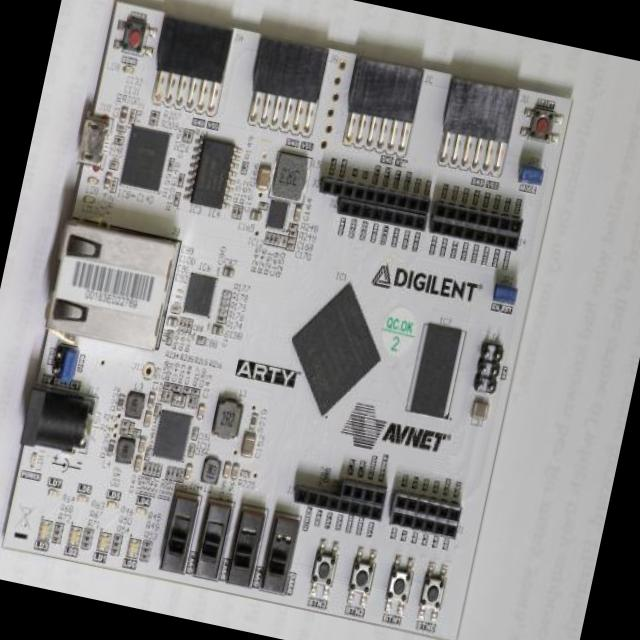IC: (274, 273, 394, 427), (406, 322, 466, 419), (182, 132, 244, 212), (119, 124, 172, 192), (150, 408, 193, 462), (180, 270, 218, 318), (265, 198, 289, 232)
LED: (36, 519, 52, 541), (66, 524, 82, 546), (96, 530, 111, 553), (126, 538, 140, 558), (28, 451, 38, 468), (135, 506, 147, 516), (82, 194, 94, 204), (122, 64, 134, 74), (76, 494, 88, 503), (106, 500, 118, 509), (86, 176, 98, 184), (48, 489, 58, 496)
capacitor: (253, 164, 272, 193), (469, 398, 490, 421), (240, 432, 256, 458), (228, 461, 240, 482), (132, 453, 144, 473), (195, 401, 206, 422), (118, 105, 130, 124), (220, 266, 236, 279), (137, 434, 147, 454), (146, 391, 156, 410), (183, 462, 193, 481), (102, 171, 112, 189), (142, 410, 152, 428), (292, 204, 302, 222), (222, 461, 232, 479), (210, 324, 224, 336), (248, 210, 262, 222), (256, 200, 268, 212), (166, 316, 178, 328), (152, 402, 160, 417), (187, 442, 195, 457), (178, 393, 186, 408), (143, 446, 151, 460), (190, 426, 198, 440), (170, 392, 178, 406), (196, 334, 207, 344), (285, 234, 296, 244), (170, 304, 180, 314), (160, 388, 167, 402), (115, 123, 126, 131), (108, 161, 119, 169), (128, 420, 134, 434), (178, 468, 184, 482), (192, 394, 198, 408), (132, 428, 140, 437), (116, 130, 124, 138), (286, 242, 294, 250), (130, 192, 136, 200), (111, 156, 118, 162), (192, 332, 196, 340), (206, 322, 210, 330), (216, 266, 220, 273), (175, 294, 180, 299), (176, 288, 182, 292), (174, 302, 178, 305)
connector: (41, 216, 181, 352), (240, 30, 330, 138), (144, 12, 234, 118), (338, 52, 426, 159), (432, 73, 520, 179), (313, 176, 431, 232), (18, 382, 98, 457), (428, 199, 523, 251), (292, 471, 388, 522), (386, 488, 463, 539), (317, 55, 348, 153), (74, 110, 114, 171), (469, 340, 505, 396), (59, 342, 79, 382), (518, 162, 544, 190), (50, 341, 67, 377), (492, 286, 517, 306)
resistor: (247, 411, 259, 431), (106, 438, 116, 456), (116, 394, 126, 412), (322, 467, 331, 482), (108, 546, 120, 556), (154, 463, 162, 478), (238, 468, 250, 478), (186, 129, 194, 144), (150, 462, 158, 476), (146, 462, 154, 476), (142, 460, 150, 474), (187, 394, 195, 408), (176, 173, 184, 187), (172, 192, 180, 206), (240, 160, 248, 174), (230, 204, 238, 218), (264, 230, 272, 244), (268, 232, 276, 246), (272, 232, 280, 246), (280, 234, 288, 248), (139, 552, 150, 562), (112, 533, 123, 543), (80, 540, 91, 550), (118, 425, 129, 435), (215, 314, 226, 324), (113, 134, 124, 144), (177, 316, 184, 331), (169, 467, 177, 480), (182, 128, 190, 141), (142, 540, 152, 550), (288, 222, 298, 232), (165, 466, 172, 480), (186, 318, 193, 332), (181, 317, 188, 331), (167, 157, 174, 171), (235, 206, 242, 220), (173, 468, 181, 480), (140, 547, 151, 555), (81, 534, 92, 542), (83, 528, 94, 536), (51, 534, 62, 542), (171, 384, 182, 392), (181, 386, 192, 394), (149, 110, 160, 118), (165, 390, 172, 402), (54, 522, 64, 530), (190, 388, 200, 396), (148, 118, 158, 126), (288, 230, 298, 238), (53, 528, 62, 536), (110, 541, 120, 548), (120, 420, 129, 427), (164, 382, 173, 389)
